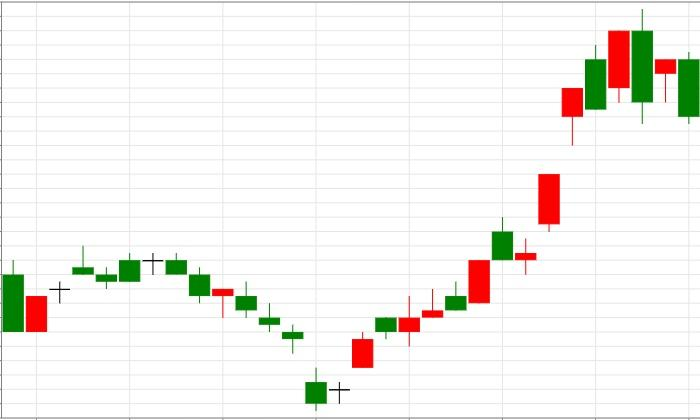bearish_engulfing_fall: (515, 9, 653, 275)
